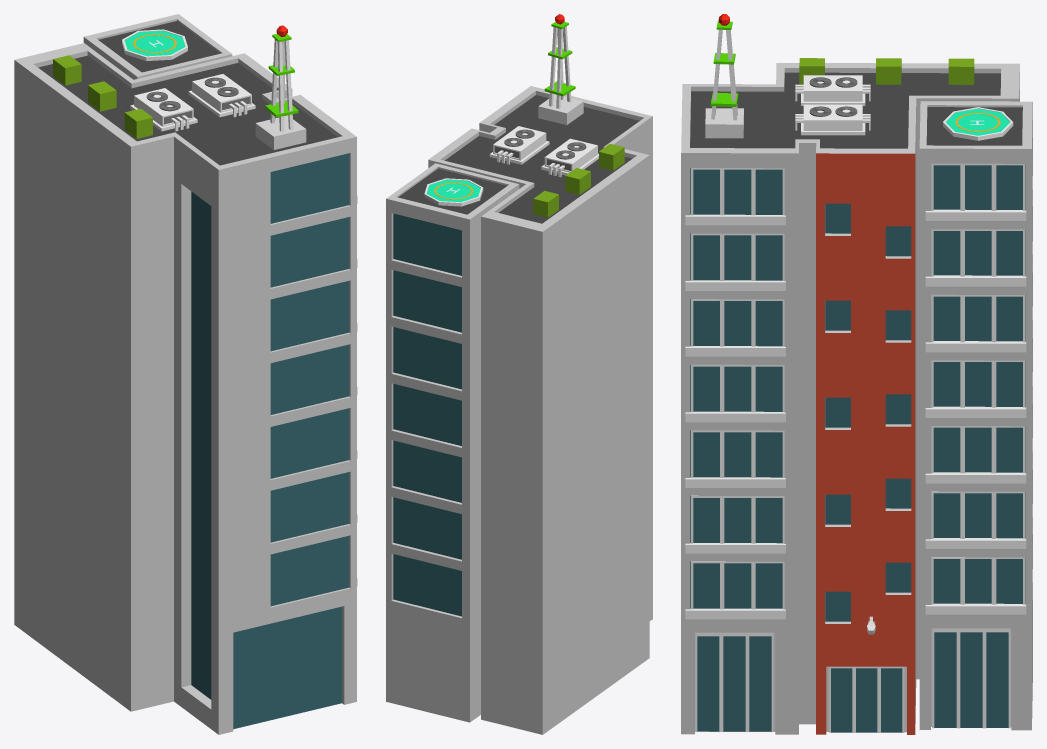
File: Building_18_tran.glb
The picture shows the model from 3 angles, left to right: view 1: azimuth 30°, elevation 25°; view 2: azimuth 150°, elevation 25°; view 3: azimuth 270°, elevation 25°; orthographic projection. The views are drawn at different scales.
Parts seen in each view (by area): view 1: Cube.13692, Cube.014, Cube.13682, Cube.13717, Cube.13694, Cube.13691, Cube.13688, Cube.13689, Cube.13690; view 2: Cube.13692, Cube.014, Cube.13682, Cube.13717, Cube.13694, Cube.13691, Cube.13690, Cube.13689, Cube.13688; view 3: Cube.13692, Cube.13683, Cube.13684, Cube.13686, Cube.13685, Cube.13687, Cube.014, Cube.13682, Cube.13717, Cube.13691, Cube.13694, Cube.13688 (+1 smaller).
Boxes of the visible parts, x1,y1,x2,y2 form: Cube.13692: (14, 14, 356, 734); Cube.014: (188, 74, 255, 117); Cube.13682: (130, 88, 197, 131); Cube.13717: (122, 29, 187, 61); Cube.13694: (270, 39, 293, 131); Cube.13691: (255, 115, 306, 149); Cube.13688: (53, 55, 81, 85); Cube.13689: (88, 81, 116, 111); Cube.13690: (124, 108, 152, 138); Cube.13692: (386, 86, 652, 734); Cube.014: (489, 126, 549, 164); Cube.13682: (541, 138, 598, 177); Cube.13717: (424, 178, 483, 206); Cube.13694: (548, 26, 571, 108); Cube.13691: (538, 94, 583, 125); Cube.13690: (599, 143, 624, 170); Cube.13689: (565, 168, 590, 194); Cube.13688: (533, 190, 558, 217); Cube.13692: (681, 63, 1032, 734); Cube.13683: (925, 163, 1026, 614); Cube.13684: (685, 168, 785, 619); Cube.13686: (932, 628, 1010, 728); Cube.13685: (695, 632, 773, 732); Cube.13687: (829, 666, 904, 732); Cube.014: (795, 104, 870, 135); Cube.13682: (795, 75, 870, 105); Cube.13717: (943, 107, 1013, 140); Cube.13691: (705, 108, 743, 138); Cube.13694: (711, 29, 737, 120); Cube.13688: (948, 58, 974, 84).
Size of the model in its own units: 0.2246 by 0.6766 by 0.3114.
